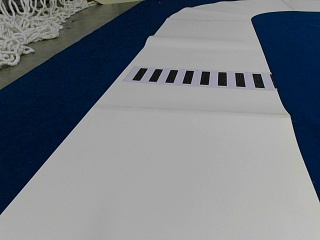crosswalk: (134, 68, 262, 88)
